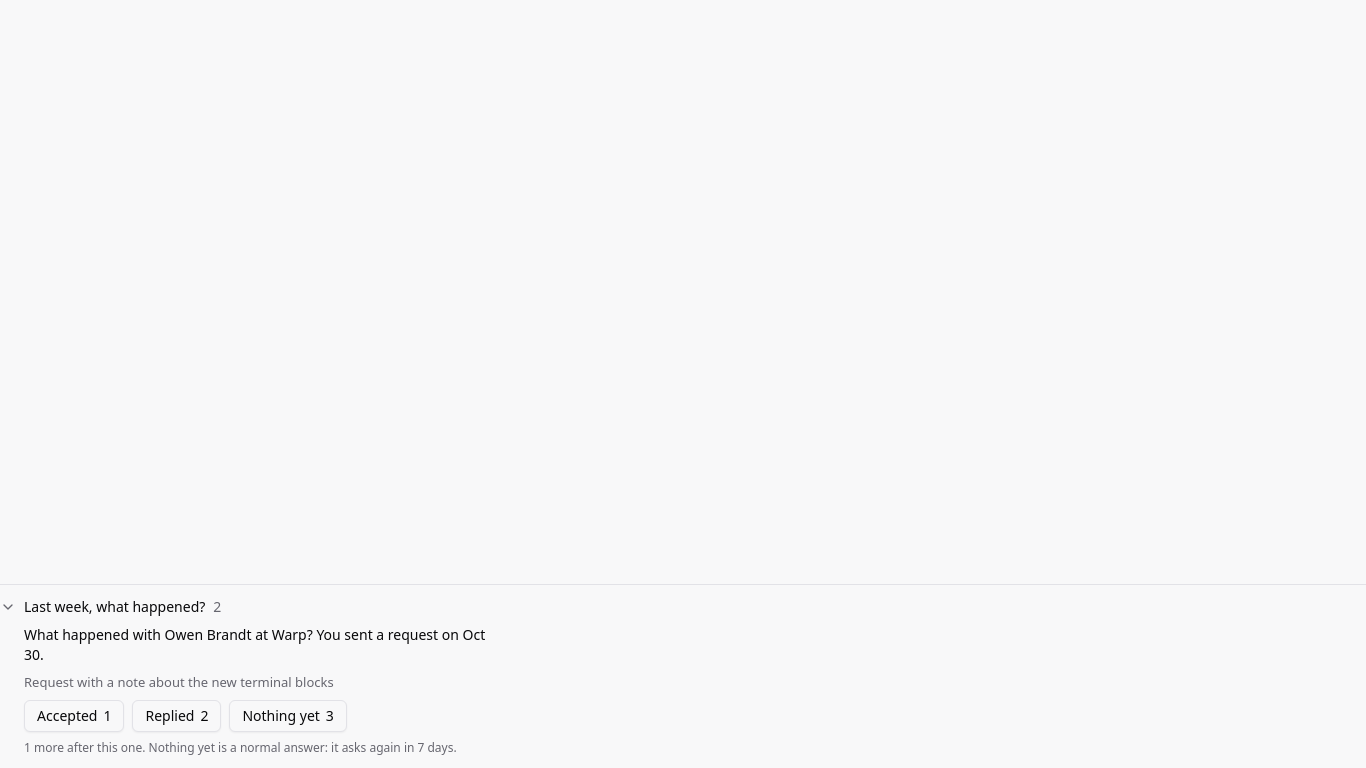
Scenario: OutcomePrompt › cancelling the reply dialog logs nothing and keeps the question
This screenshot has width=1366, height=768.
(page scrolled)
Expected: the element "Last week, what happened" is shown, [0, 584, 1365, 767]
Press 2
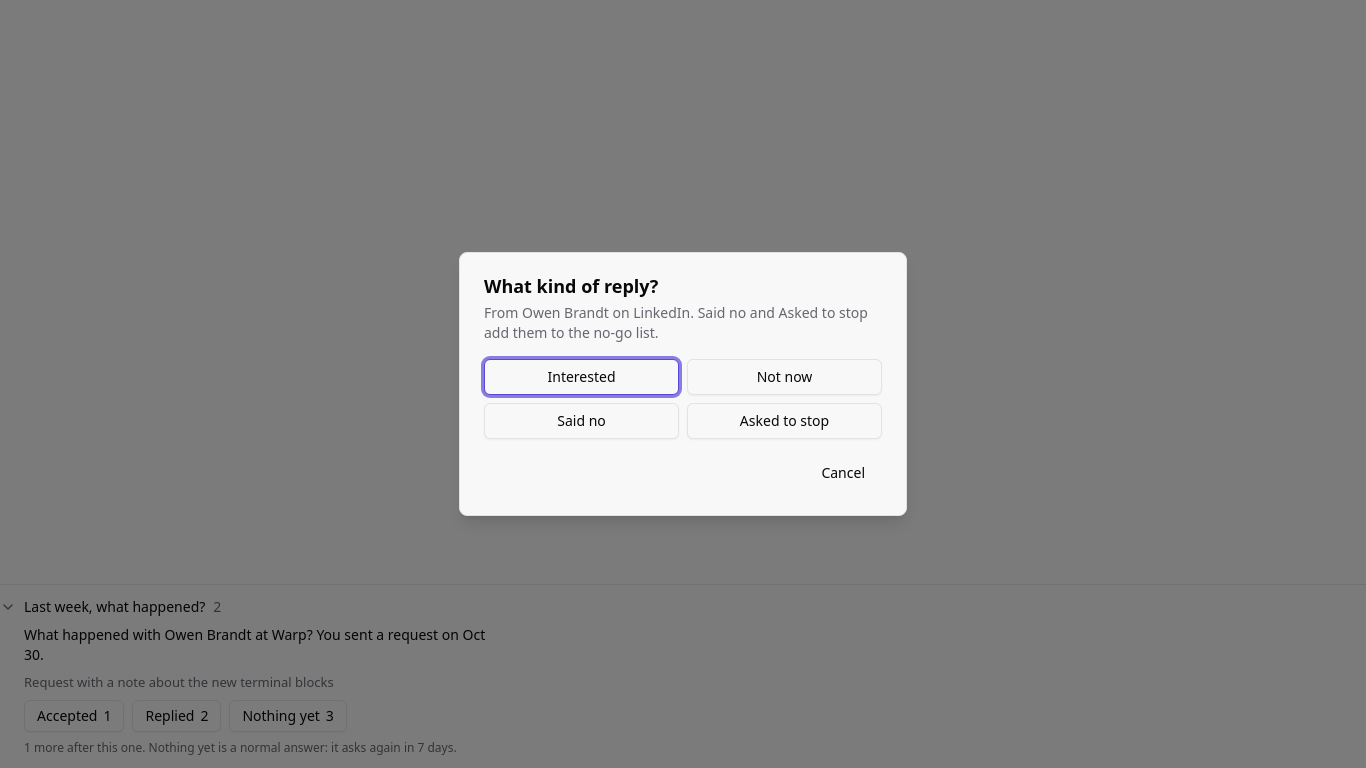
Click the button "Cancel".
click(843, 473)  # box [804, 455, 882, 491]
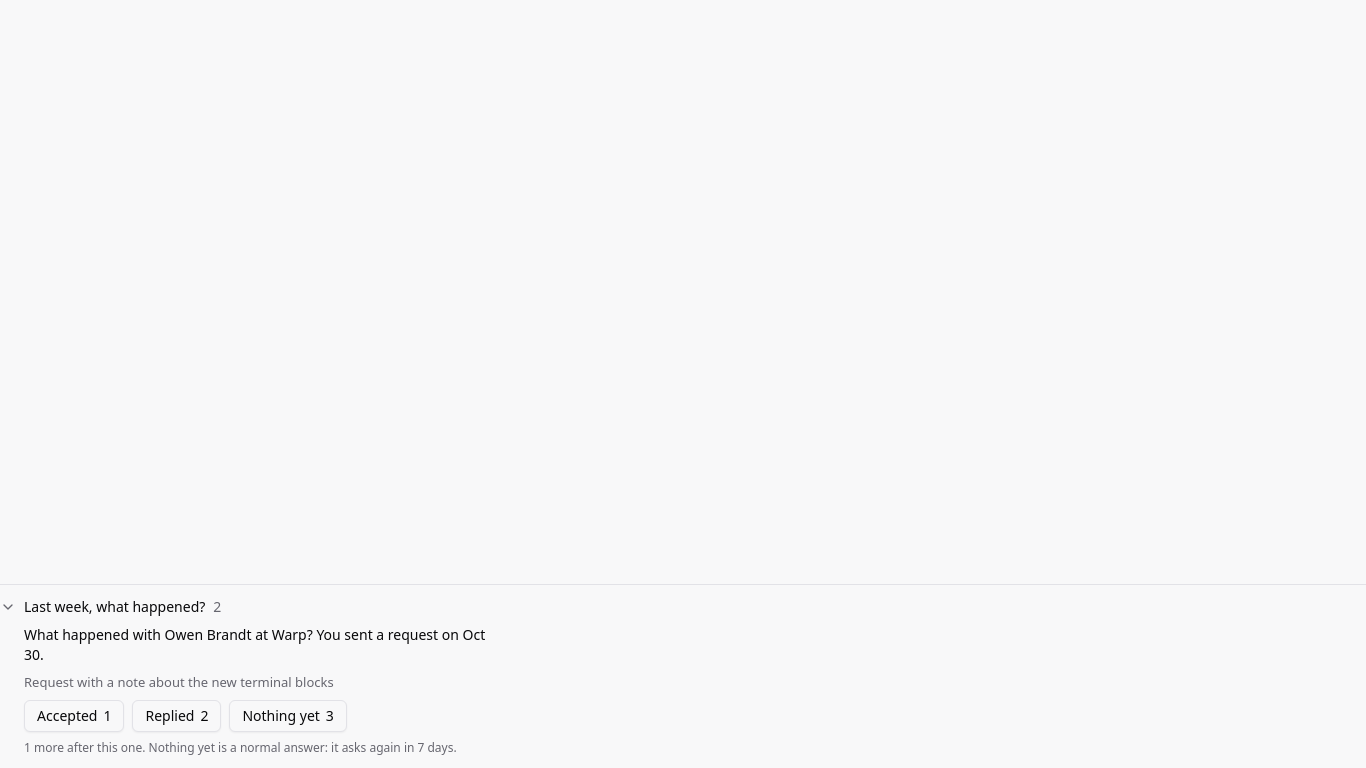
Expected: the text with test id "question" reads "What happened with Owen Brandt at Warp? You sent a request on Oct 30.", [24, 625, 485, 664]
Expected: the dialog is gone
